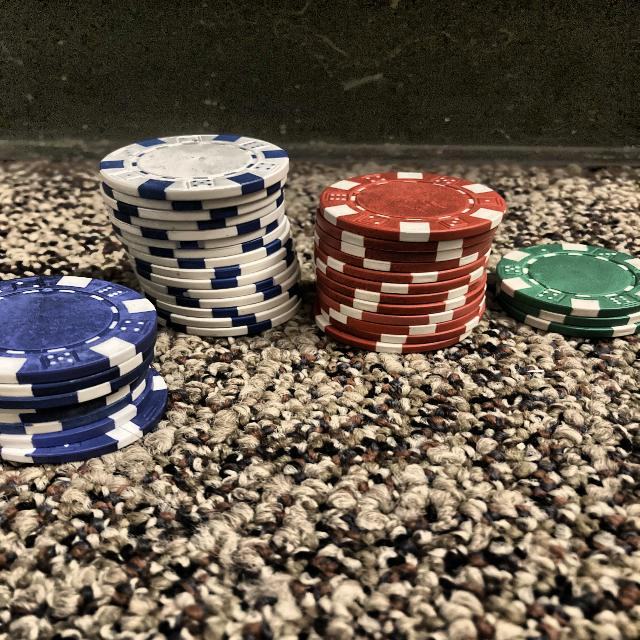Chip: (94, 105, 312, 358), (304, 136, 513, 365), (0, 242, 192, 473), (491, 213, 640, 341)
